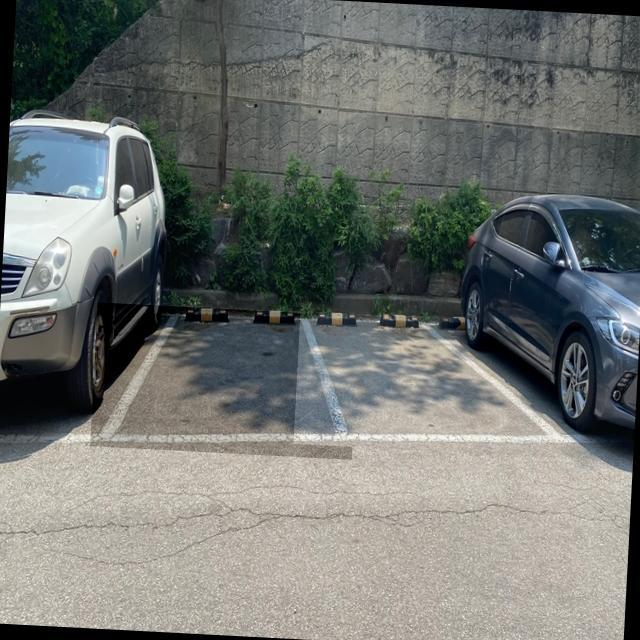empty: (91, 306, 353, 447), (301, 318, 575, 446)
